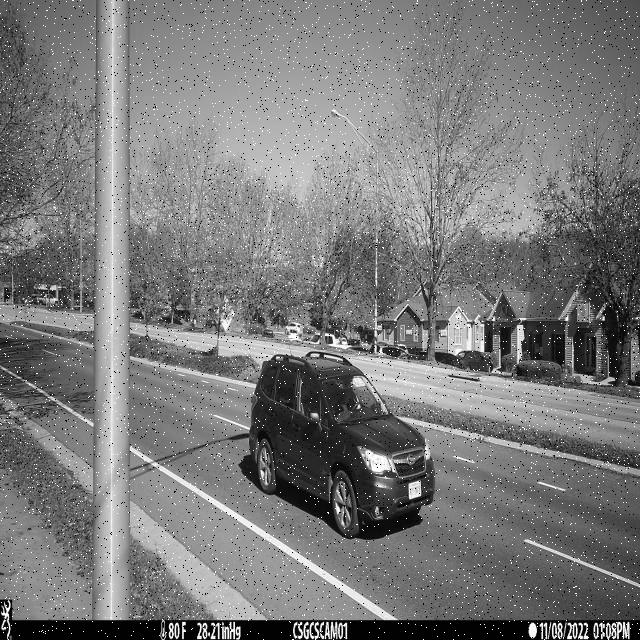SUV: (248, 350, 435, 539)
